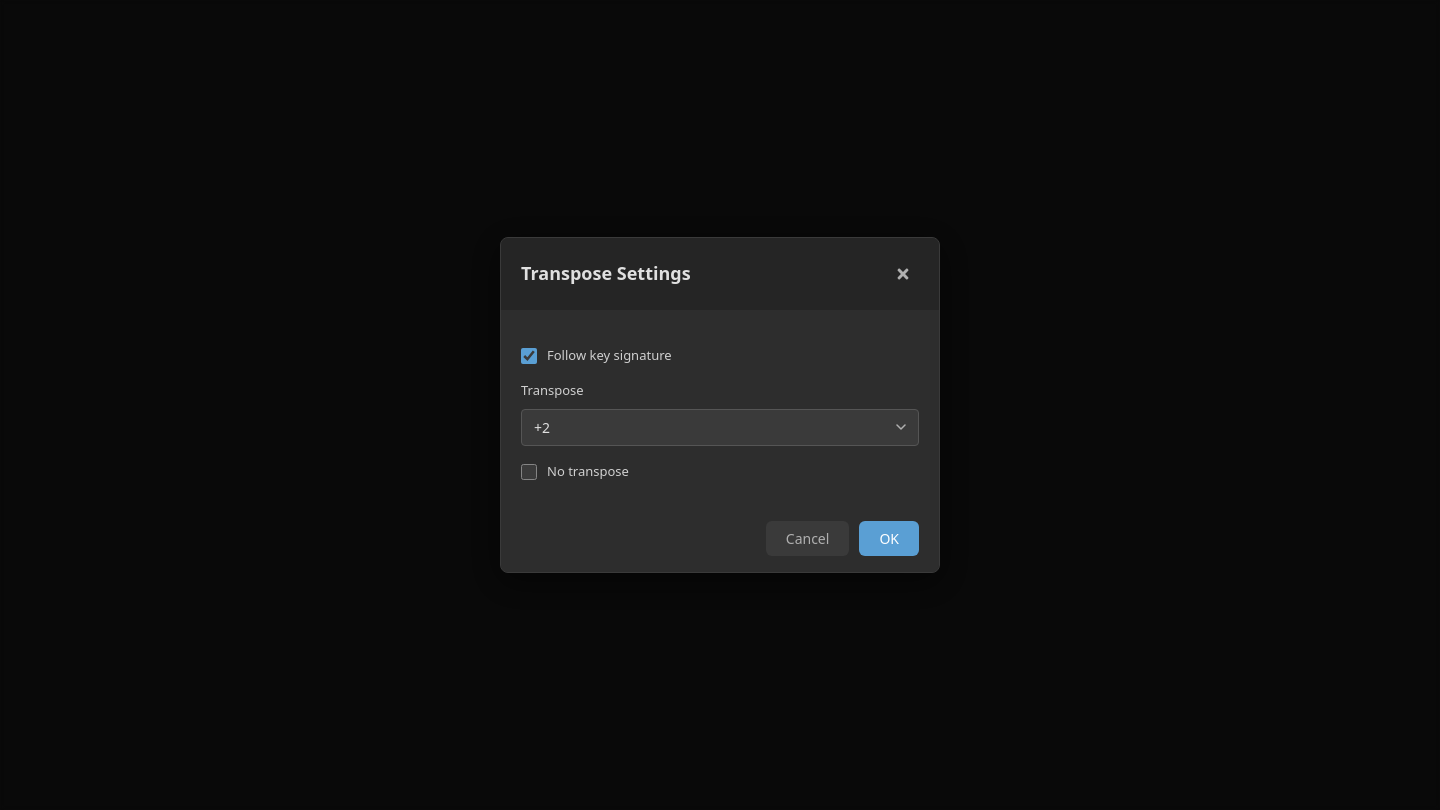
TransposeSettingsPopup › disables transpose controls when no-transpose is selected
Click the checkbox labelled "No transpose" at (529, 472), box [521,464,537,480]
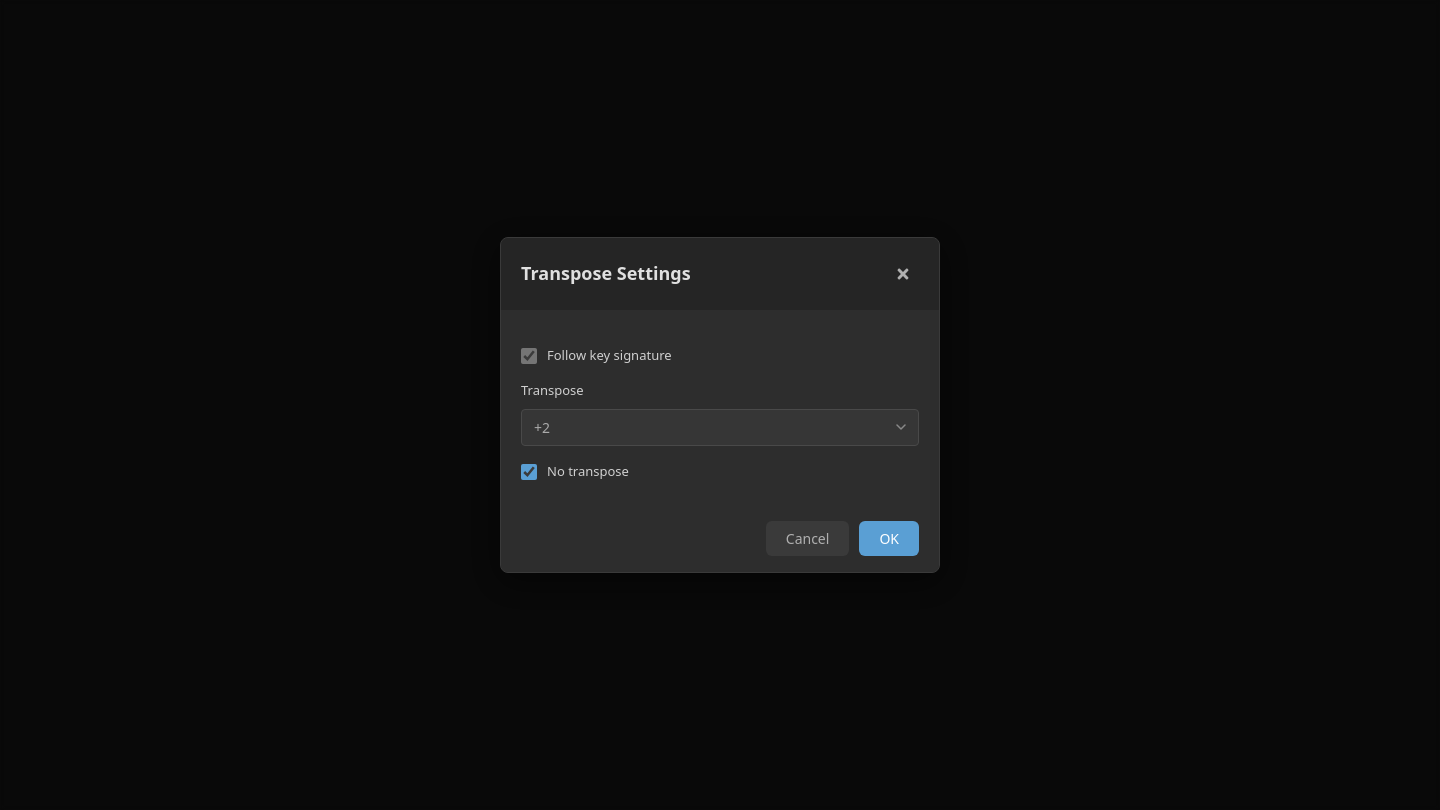
Now the checkbox labelled "Follow key signature" is disabled, box [521,348,537,364]
Now the dropdown is disabled, box [521,409,919,446]
